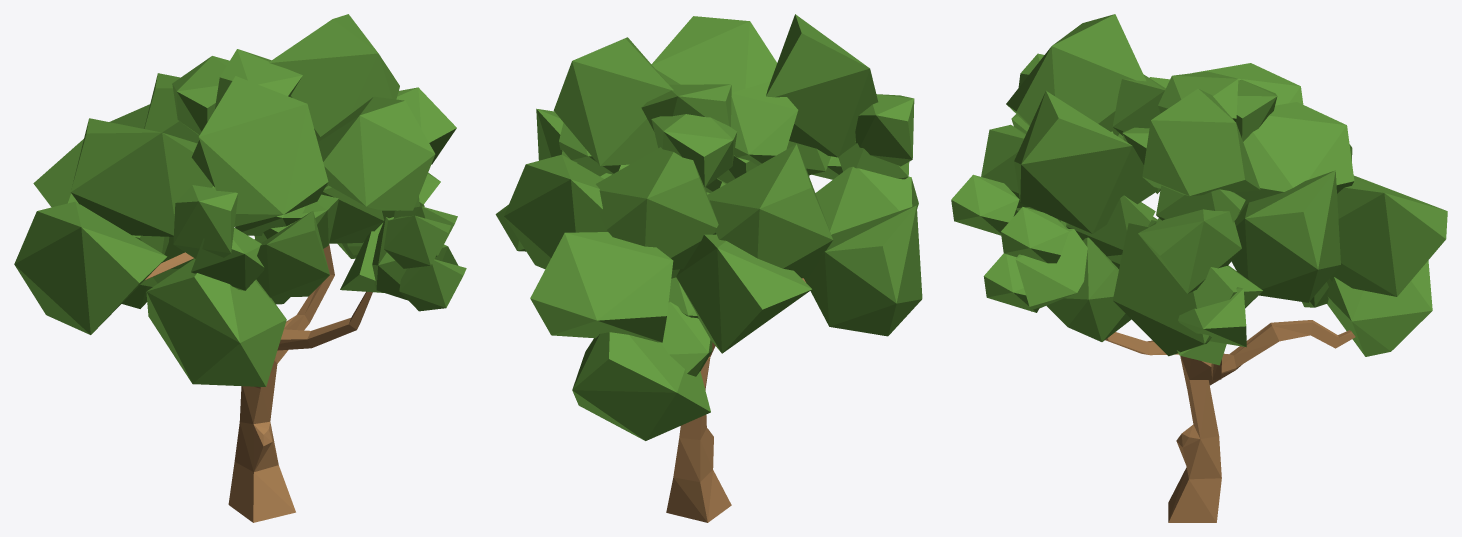
Rendered from lowpoly_tree_1.glb.
The picture shows the model from 3 angles, left to right: view 1: azimuth 30°, elevation 25°; view 2: azimuth 150°, elevation 25°; view 3: azimuth 270°, elevation 25°; orthographic projection. The views are drawn at different scales.
Visible parts, largest first — view 1: tree1; view 2: tree1; view 3: tree1.
Boxes of the visible parts, x1,y1,x2,y2 form: tree1: (14, 14, 466, 522); tree1: (495, 14, 922, 522); tree1: (951, 14, 1447, 522).
Bounding box in the file's own units: 627 × 698 × 673.
